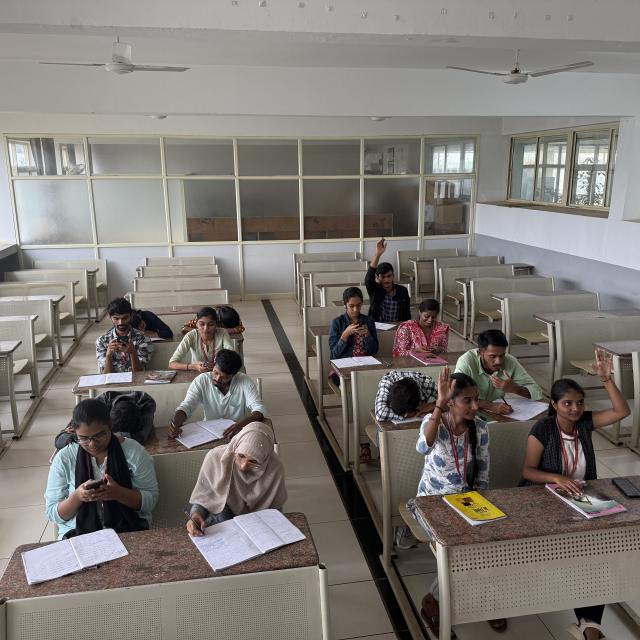Hand Rising: (528, 345, 618, 474), (421, 362, 490, 489), (366, 239, 416, 314)
Sleeping: (56, 386, 156, 451), (372, 361, 448, 426), (118, 284, 177, 341), (183, 302, 250, 340)
Using Phone: (52, 400, 148, 521), (166, 308, 238, 371), (92, 298, 144, 374), (324, 287, 383, 352), (403, 303, 456, 358)
Writing: (176, 429, 294, 542), (162, 352, 264, 455), (460, 332, 547, 419)
